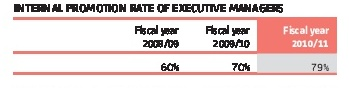table: (0, 0, 349, 88)
